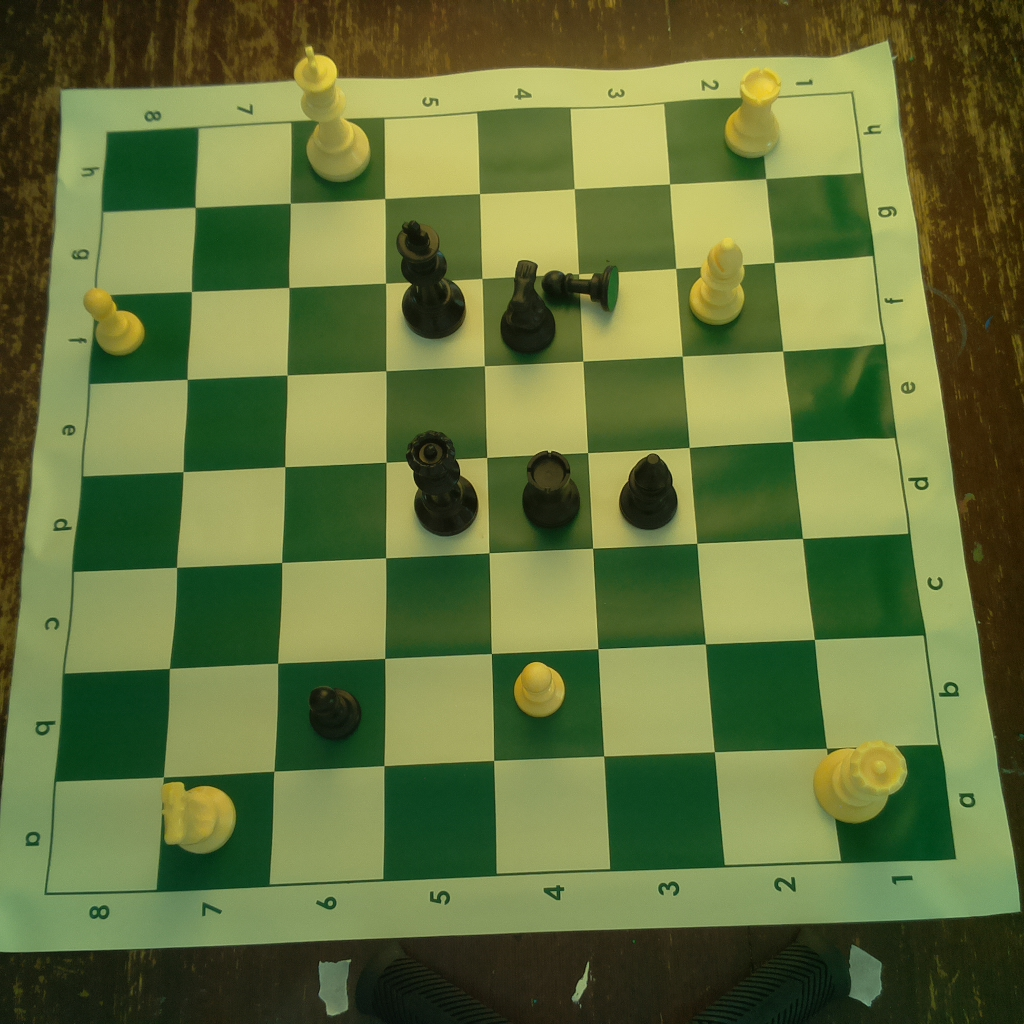black_bishop: (614, 449, 680, 532)
black_king: (392, 217, 470, 339)
black_knight: (492, 252, 559, 356)
black_pawn: (537, 251, 632, 317), (302, 678, 366, 743)
black_queen: (406, 427, 484, 540)
black_rook: (518, 444, 586, 534)
file_a: (41, 744, 957, 891)
file_b: (55, 636, 942, 780)
file_c: (63, 535, 924, 673)
file_d: (73, 438, 911, 574)
file_e: (85, 347, 896, 477)
file_f: (92, 257, 885, 383)
file_g: (94, 174, 876, 293)
file_h: (101, 95, 863, 214)
outline: (46, 91, 962, 896)
rank_1: (759, 93, 957, 864)
rank_2: (666, 97, 841, 865)
rank_3: (571, 102, 727, 873)
rank_4: (477, 106, 611, 875)
rank_5: (384, 110, 497, 882)
rank_6: (267, 123, 386, 886)
rank_7: (159, 123, 289, 893)
rank_8: (42, 127, 201, 896)
white_bishop: (685, 234, 753, 331)
white_king: (289, 44, 373, 180)
white_knight: (151, 773, 240, 854)
white_pawn: (81, 286, 147, 353), (510, 656, 568, 722)
white_queen: (806, 734, 911, 828)
white_rook: (721, 66, 785, 162)
